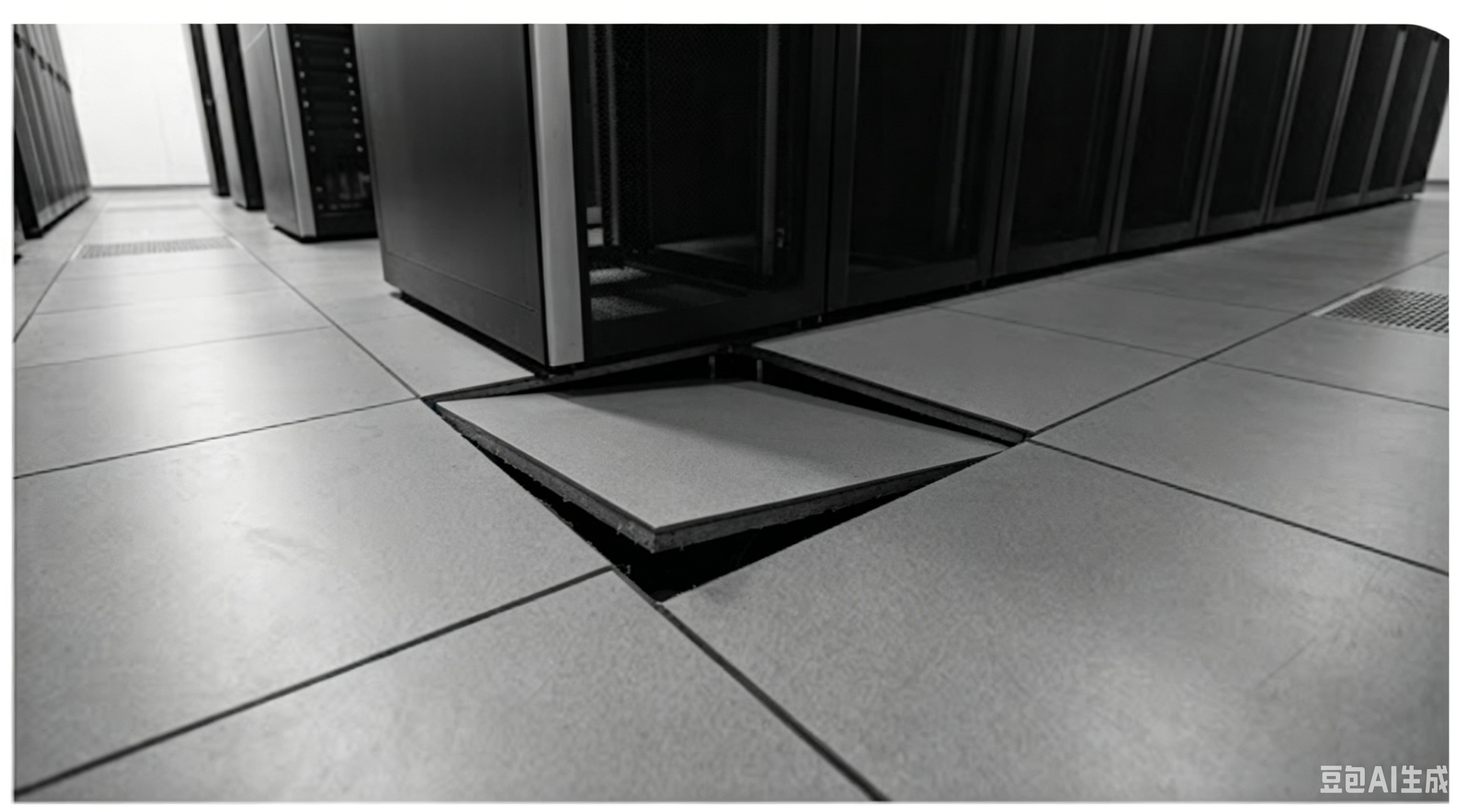floor_defect: (403, 308, 1041, 596)
